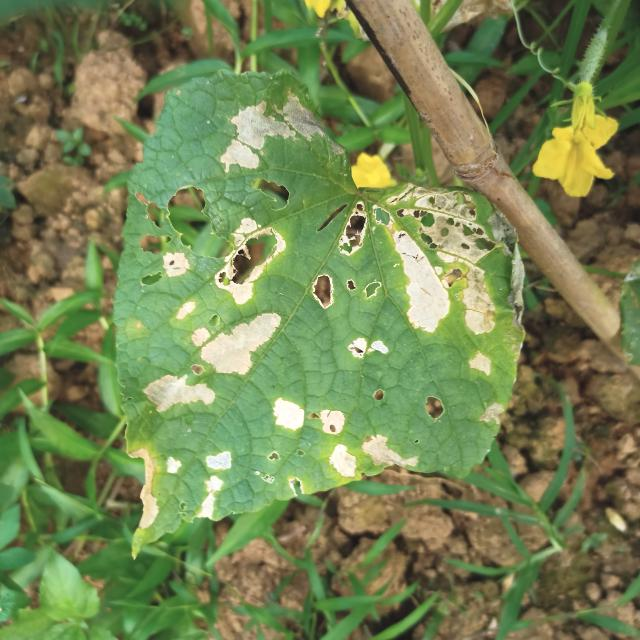disease_cucumber: (128, 89, 547, 335), (85, 319, 513, 528)
